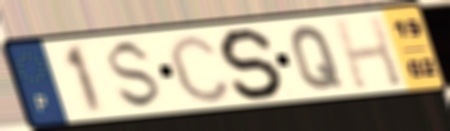1: (63, 40, 111, 118)
C: (164, 31, 235, 105)
H: (329, 13, 406, 92)
Q: (288, 24, 346, 92)
S: (217, 26, 287, 101), (106, 37, 166, 112)
